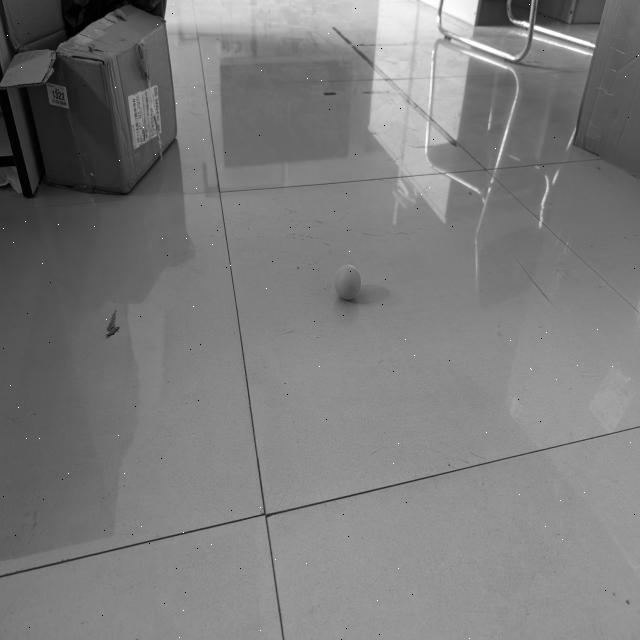ping-pong-ball: (334, 263, 361, 304)
